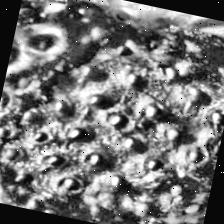Anthracnose Fruit Rot: (0, 5, 224, 224)
